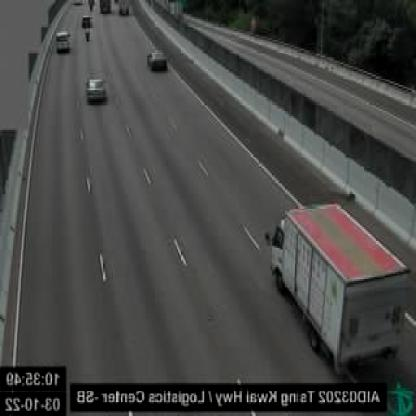Car: (86, 73, 107, 102), (148, 49, 168, 71), (57, 31, 72, 52)
Truck: (266, 201, 411, 368)
